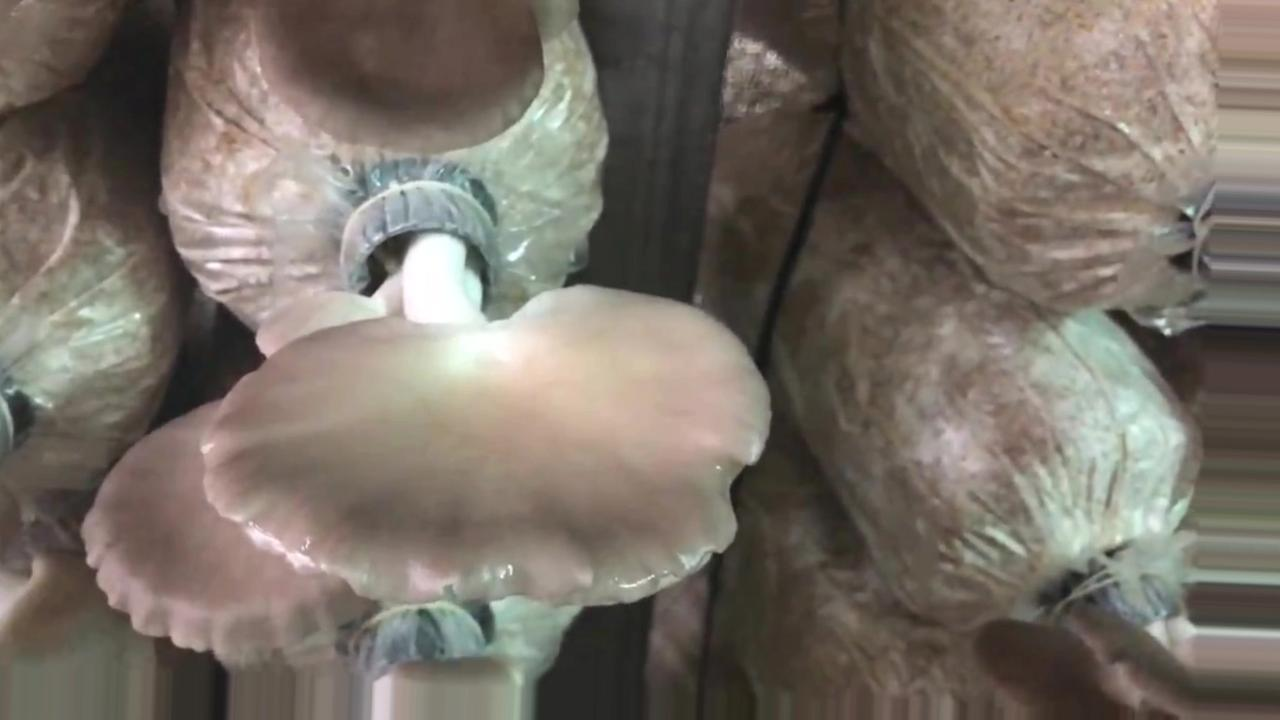nam: (200, 156, 770, 613), (980, 563, 1280, 714), (259, 14, 545, 146)
